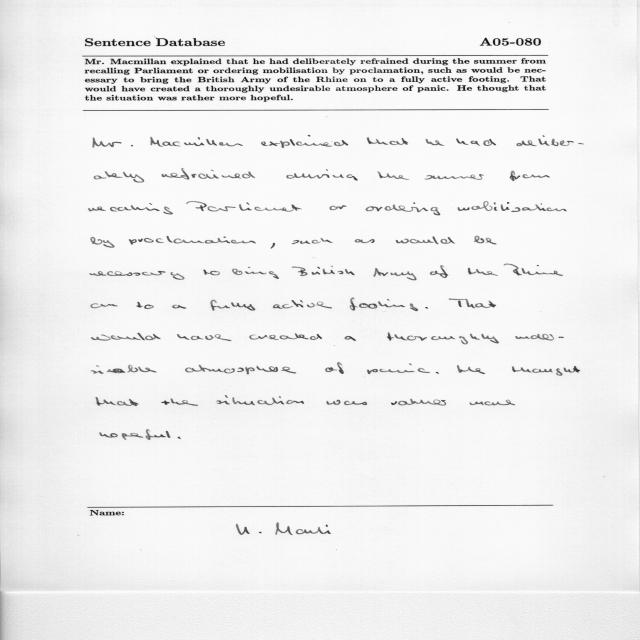word: (387, 333, 499, 345), (186, 201, 302, 212), (458, 201, 567, 212), (129, 236, 256, 245), (261, 135, 348, 148), (185, 365, 296, 375), (162, 169, 256, 180), (366, 203, 440, 216), (150, 137, 243, 147), (89, 203, 173, 214), (350, 298, 418, 311), (216, 396, 304, 406), (90, 271, 184, 280), (286, 170, 358, 181), (100, 429, 171, 440), (516, 136, 584, 147), (504, 264, 563, 276), (367, 363, 429, 374), (512, 366, 580, 376), (95, 171, 145, 183), (91, 365, 157, 374), (232, 267, 279, 279), (92, 333, 161, 341), (273, 300, 332, 309), (374, 268, 417, 280), (249, 333, 322, 340), (211, 300, 256, 311), (396, 237, 455, 245), (449, 299, 496, 309), (93, 138, 133, 148), (510, 171, 550, 181), (391, 399, 446, 406), (317, 266, 355, 276), (177, 334, 231, 341), (96, 397, 138, 406), (425, 174, 484, 180), (515, 334, 564, 341), (367, 137, 408, 145), (456, 138, 496, 146), (161, 398, 198, 406), (378, 171, 410, 180), (470, 400, 515, 406), (91, 237, 115, 248), (292, 267, 320, 276), (457, 365, 485, 374), (292, 238, 333, 244), (468, 268, 498, 276), (430, 265, 448, 278), (325, 362, 344, 374), (326, 400, 367, 405), (474, 236, 496, 244), (91, 304, 118, 309), (426, 139, 444, 146), (136, 302, 154, 309), (203, 270, 220, 276), (329, 205, 347, 210), (355, 239, 375, 243), (173, 305, 187, 309), (345, 336, 356, 341), (271, 243, 275, 249), (426, 307, 429, 309), (436, 372, 439, 374), (178, 437, 181, 439)
